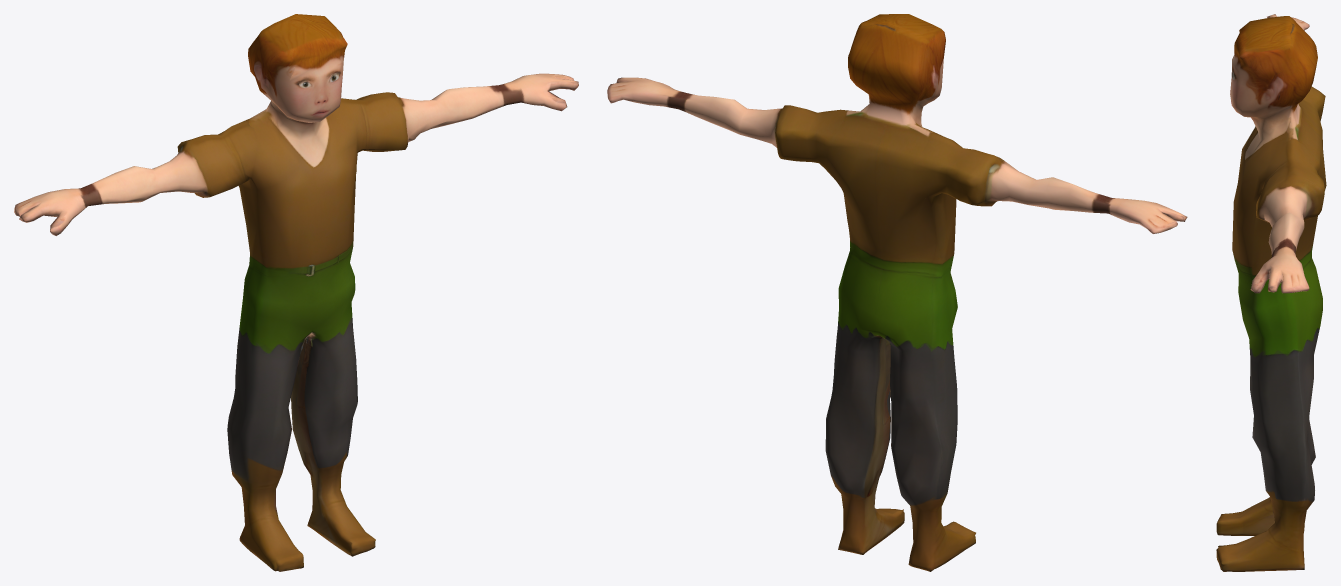
The model's file is human_raw.glb.
3 renders of one model, left to right at view 1: azimuth 30°, elevation 25°; view 2: azimuth 150°, elevation 25°; view 3: azimuth 270°, elevation 25°, orthographic. The views are drawn at different scales.
Bounding box in the file's own units: 2 × 1.78 × 0.3389.
Materials: 1 (1 with a texture image).
